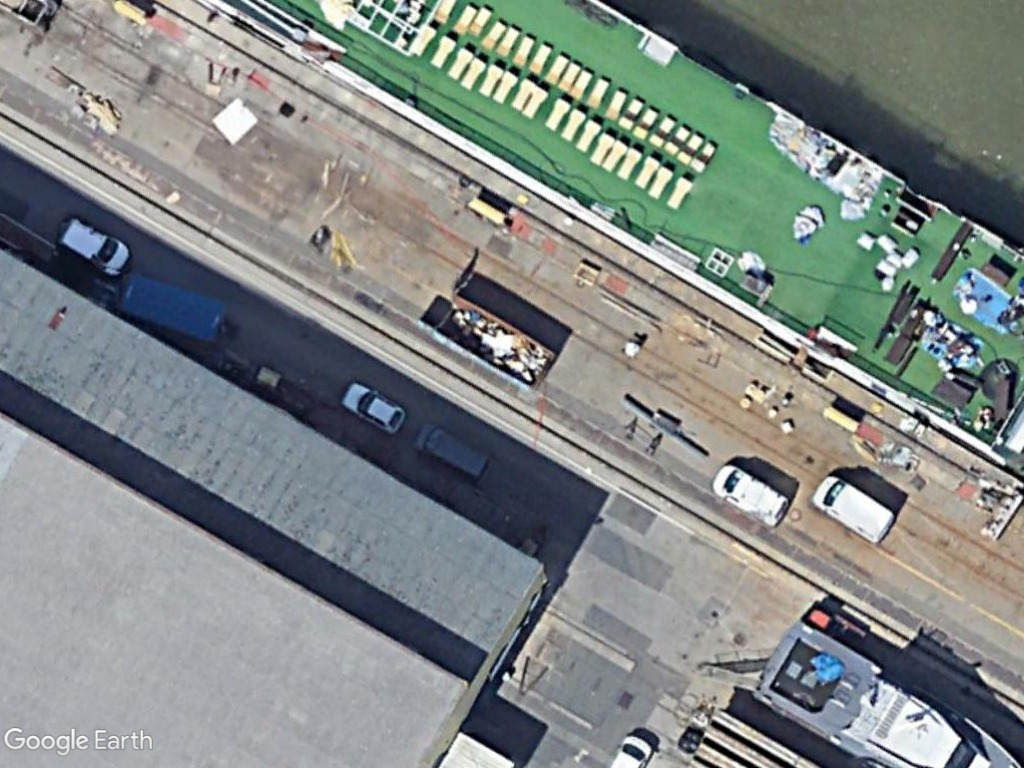car: (338, 376, 409, 436)
van: (808, 468, 896, 547), (713, 455, 793, 534), (410, 416, 493, 486), (55, 220, 134, 277)
